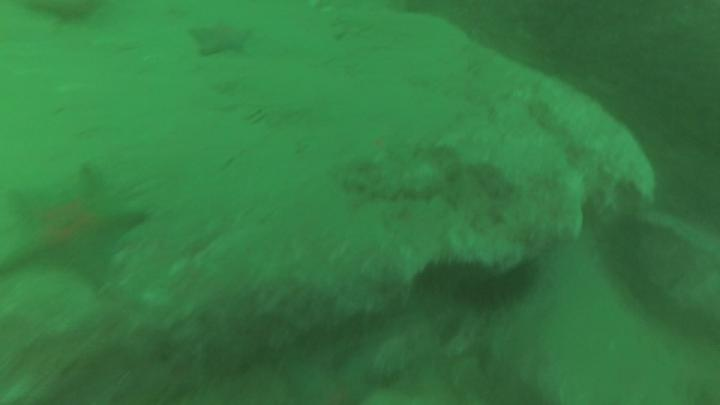starfish: (10, 166, 147, 283), (192, 19, 253, 57)
